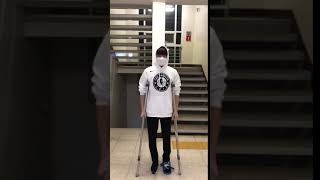crutches: (135, 45, 181, 178)
